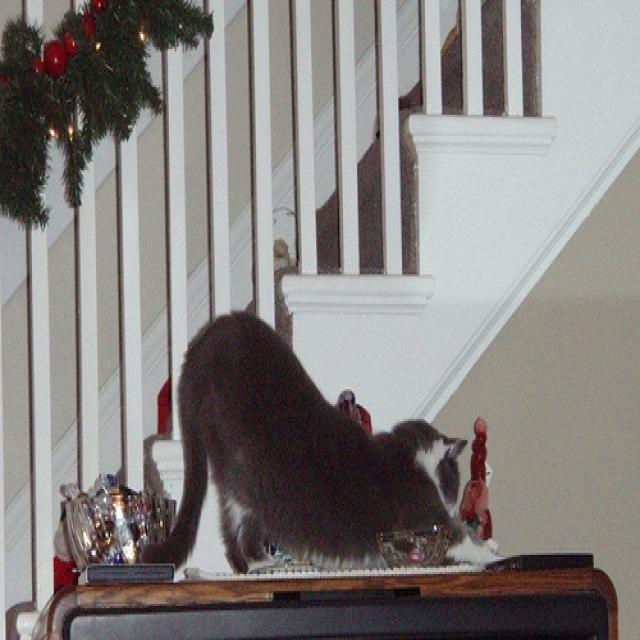cat: (130, 310, 502, 576)
